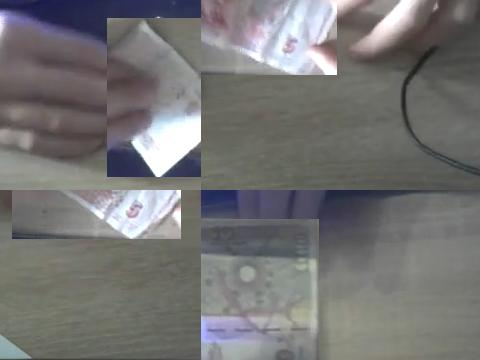10leva: (201, 219, 319, 360)
5leva: (107, 18, 201, 177), (201, 0, 337, 75), (60, 190, 181, 239)
